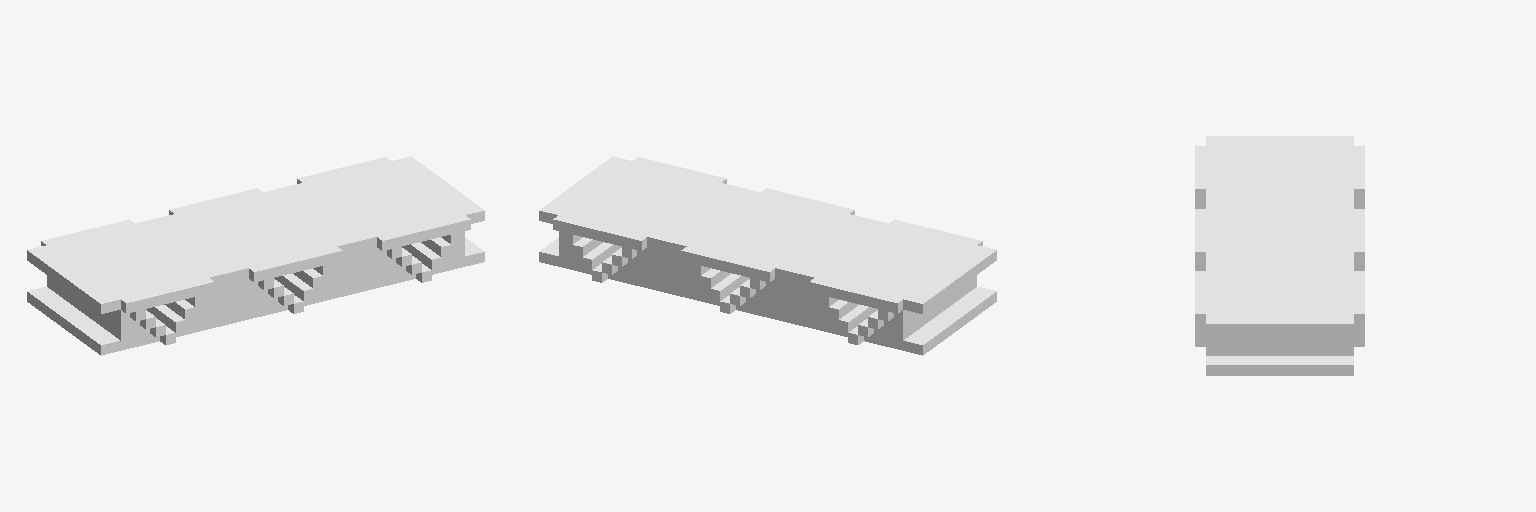
File: Lift_Down.obj
The picture shows the model from 3 angles: view 1: azimuth 30°, elevation 25°; view 2: azimuth 150°, elevation 25°; view 3: azimuth 270°, elevation 25°; orthographic projection.
Visible parts, largest first — view 1: object 1; view 2: object 1; view 3: object 1.
Boxes of the visible parts, <box> form: object 1: <box>27,156,484,355</box>; object 1: <box>539,156,996,355</box>; object 1: <box>1195,136,1364,375</box>.
Size of the model in its own units: 3.9 by 0.5 by 1.5.